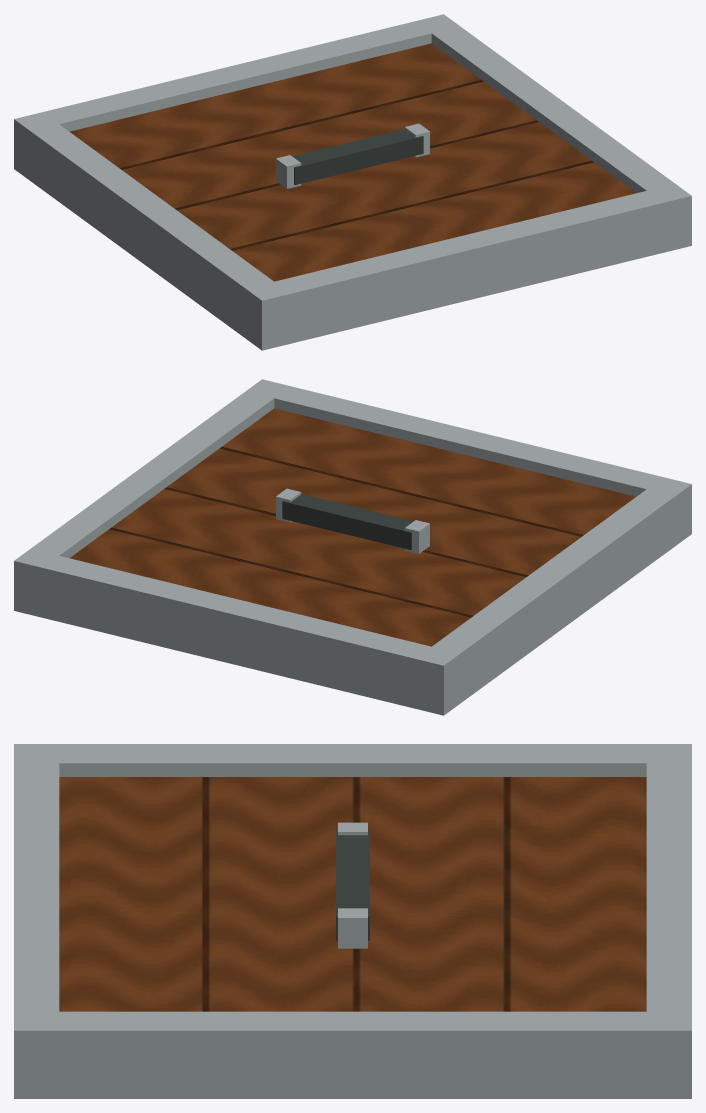
Rendered from modular-survival-base-builder-hatch-plank-lid-181bdb13__24210.glb.
3 renders of one model, top to bottom at view 1: azimuth 30°, elevation 25°; view 2: azimuth 150°, elevation 25°; view 3: azimuth 270°, elevation 25°, orthographic. The views are drawn at different scales.
Visible parts, largest first — view 1: hatch-lid/wood, hatch-plank-lid, hatch-lid/dark, hatch-lid/metal; view 2: hatch-lid/wood, hatch-plank-lid, hatch-lid/dark, hatch-lid/metal; view 3: hatch-lid/wood, hatch-plank-lid, hatch-lid/dark, hatch-lid/metal.
Part boxes in pixels (x1,y1,x2,y2): hatch-lid/wood: (70, 43, 635, 281); hatch-plank-lid: (14, 14, 691, 350); hatch-lid/dark: (292, 129, 423, 184); hatch-lid/metal: (276, 123, 429, 188); hatch-lid/wood: (70, 408, 635, 646); hatch-plank-lid: (14, 379, 691, 715); hatch-lid/dark: (282, 494, 413, 549); hatch-lid/metal: (276, 488, 429, 553); hatch-lid/wood: (59, 777, 646, 1011); hatch-plank-lid: (14, 744, 691, 1098); hatch-lid/dark: (336, 830, 369, 940); hatch-lid/metal: (338, 822, 367, 948).
Size of the model in its own units: 0.9 by 0.125 by 0.9.
3 materials, 1 textured.
